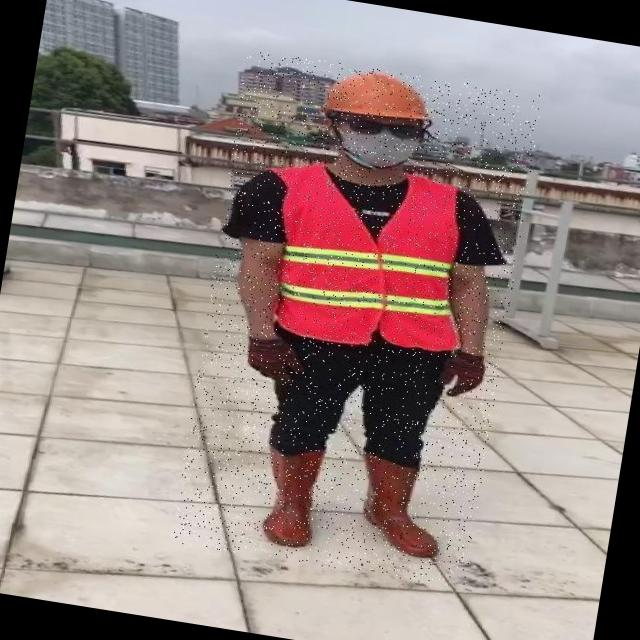hard_hat: (317, 62, 439, 131)
safety_vest: (260, 158, 484, 359)
vehicle: (171, 49, 544, 589)
work_boots: (353, 452, 455, 560), (252, 438, 330, 552)
